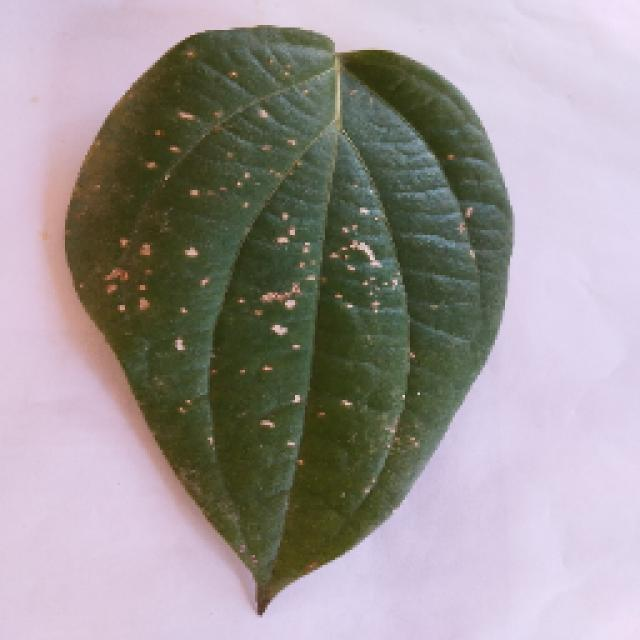pollu-disease: (65, 25, 513, 613)
